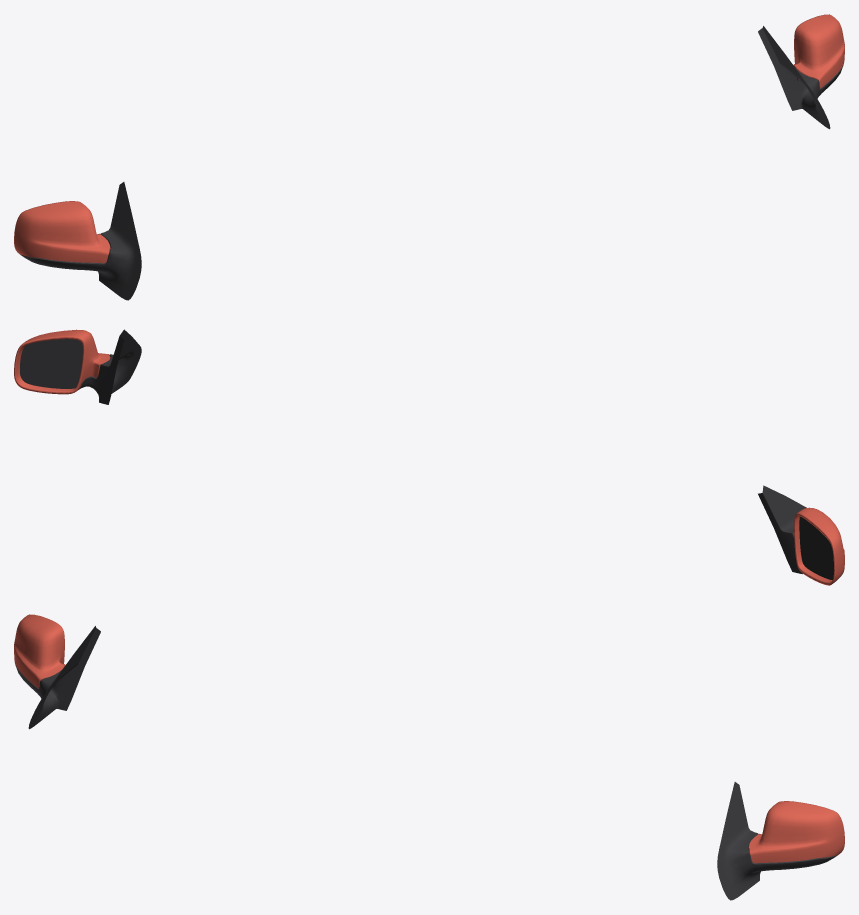
Rendered from wendtStrom_mirrors_euro.glb.
3 renders of one model, top to bottom at view 1: azimuth 30°, elevation 25°; view 2: azimuth 150°, elevation 25°; view 3: azimuth 330°, elevation 25°, orthographic.
Visible parts, largest first — view 1: mirrors_euro; view 2: mirrors_euro; view 3: mirrors_euro.
Boxes of the visible parts, x1,y1,x2,y2 form: mirrors_euro: [14, 14, 844, 300]; mirrors_euro: [14, 329, 844, 585]; mirrors_euro: [14, 614, 844, 900].
Size of the model in its own units: 1.89 by 0.1915 by 0.2299.
